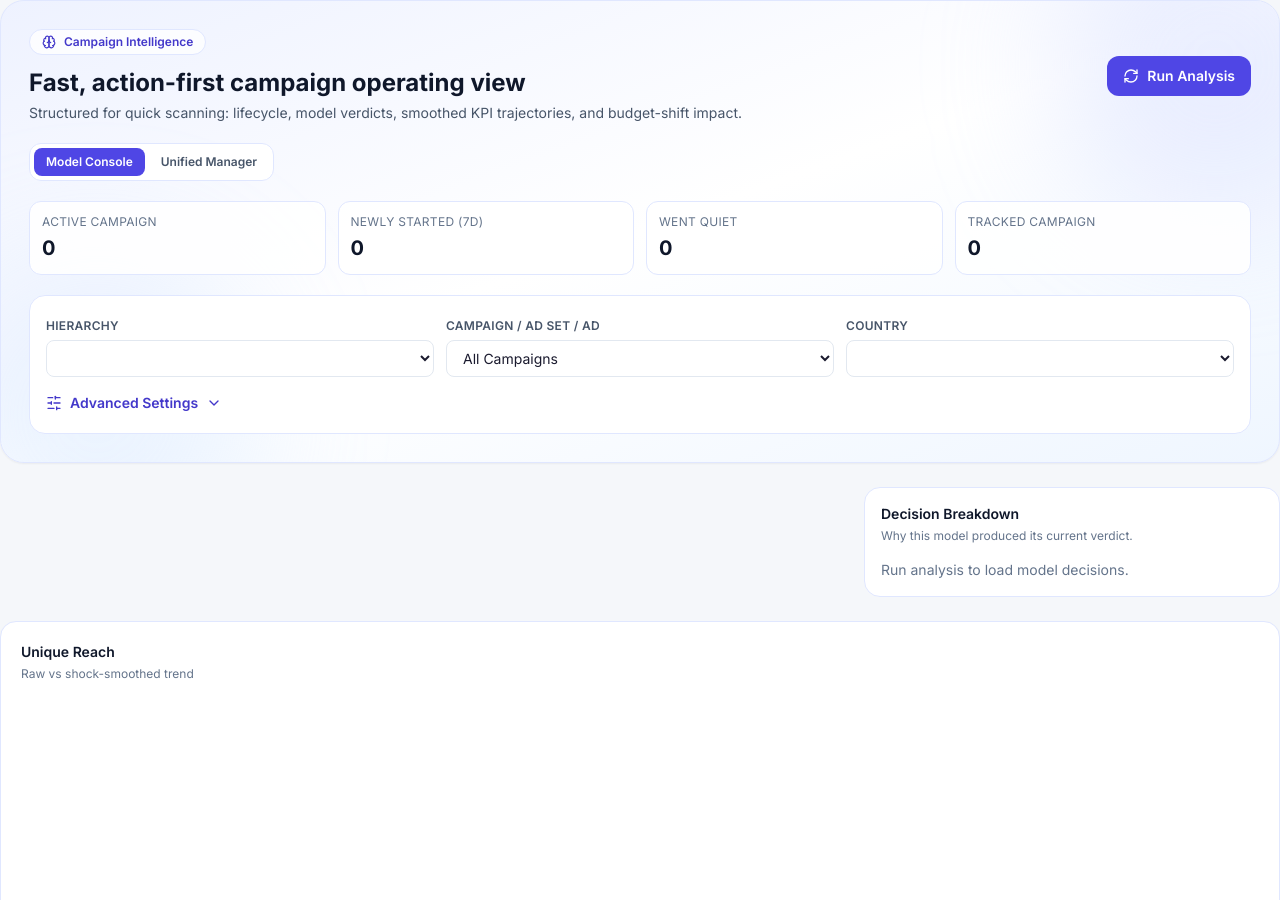
Test: CampaignIntelligenceTab › loads Unified Manager from the tab shell without crashing
Expected: the heading "Fast, action-first campaign operating view" is shown, [29,68,526,97]
Click the button "Unified Manager" at (209, 162), box [149,148,269,176]
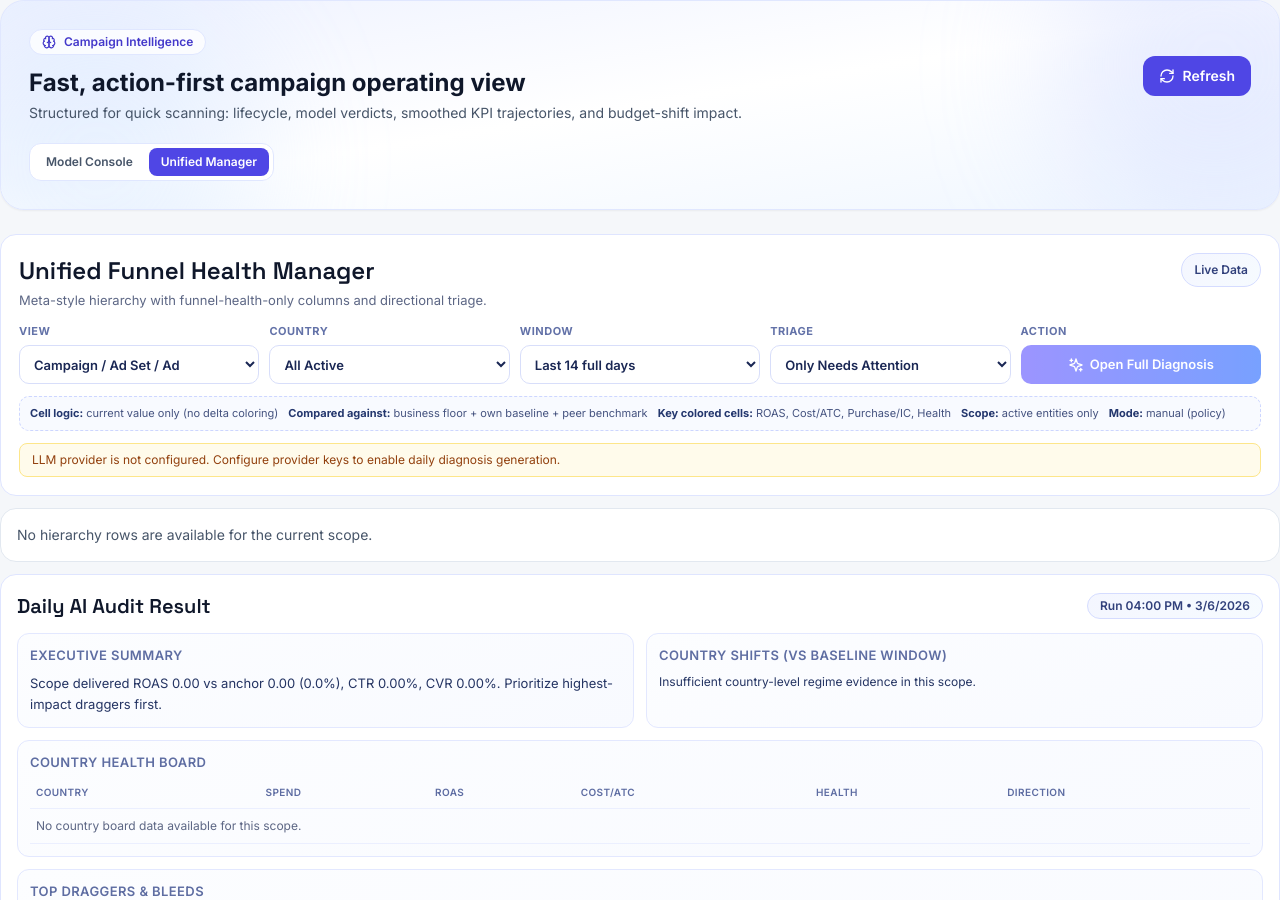
Now the heading "Unified Funnel Health Manager" is shown, box [19,255,375,286]
Now the 4th dropdown showing "Only Needs Attention" is shown, box [770,345,1011,384]
